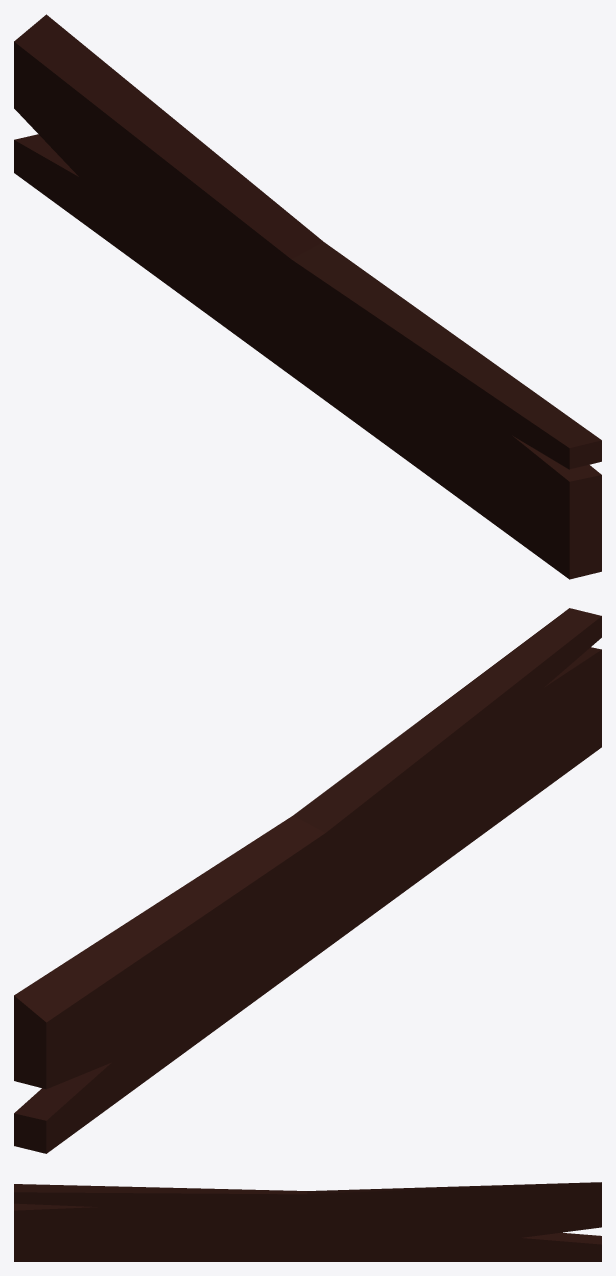
Rendered from Madera.fbx.
3 views of the same model, one above another, from view 1: azimuth 30°, elevation 25°; view 2: azimuth 150°, elevation 25°; view 3: azimuth 270°, elevation 25° (orthographic). The views are drawn at different scales.
Parts seen in each view (by area): view 1: Cube; view 2: Cube; view 3: Cube.
Part boxes in pixels (x1=…): Cube: x1=14, y1=14, x2=601, y2=579; Cube: x1=14, y1=608, x2=601, y2=1153; Cube: x1=14, y1=1182, x2=601, y2=1261.
Size of the model in its own units: 53.09 by 229 by 1533.
